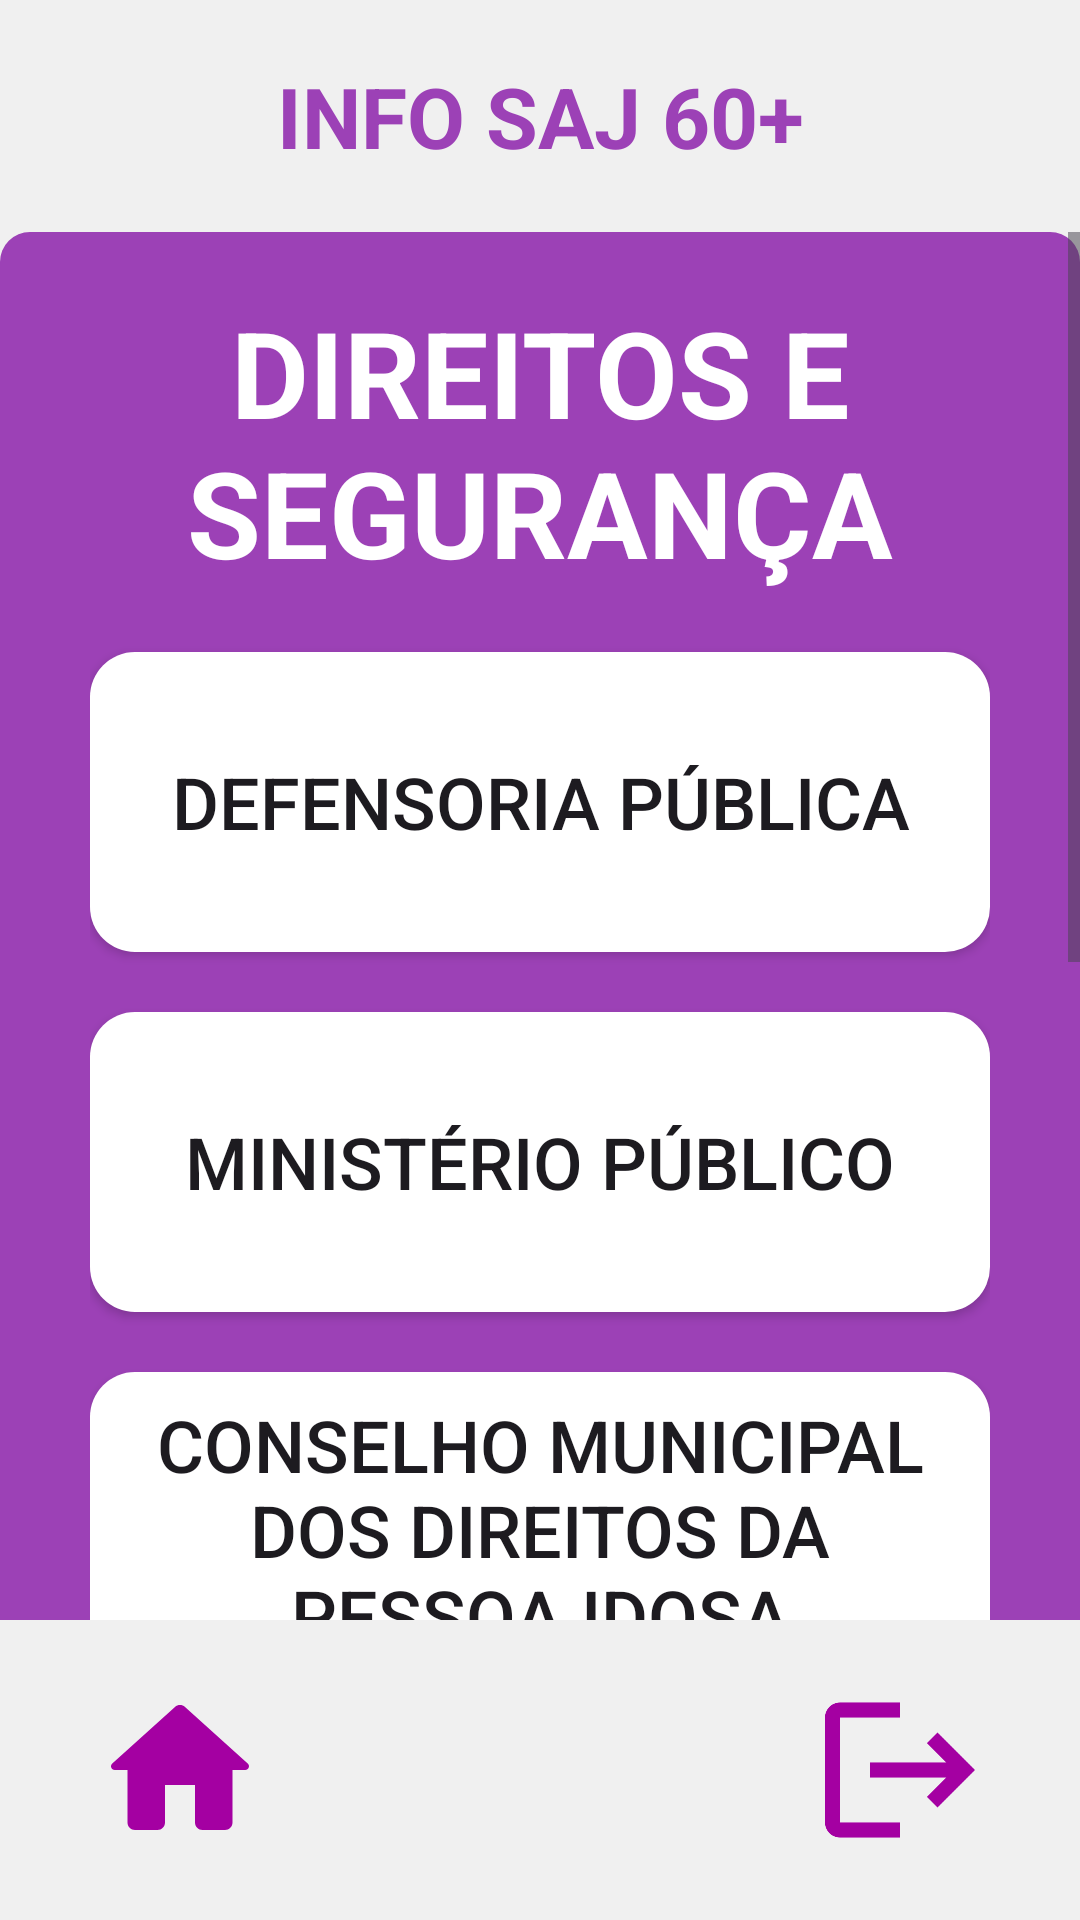

Icons on this 1080×1920 Android screen, each with its box as BBox(x1, y1, x2, y2):
home: BBox(111, 1705, 249, 1830)
